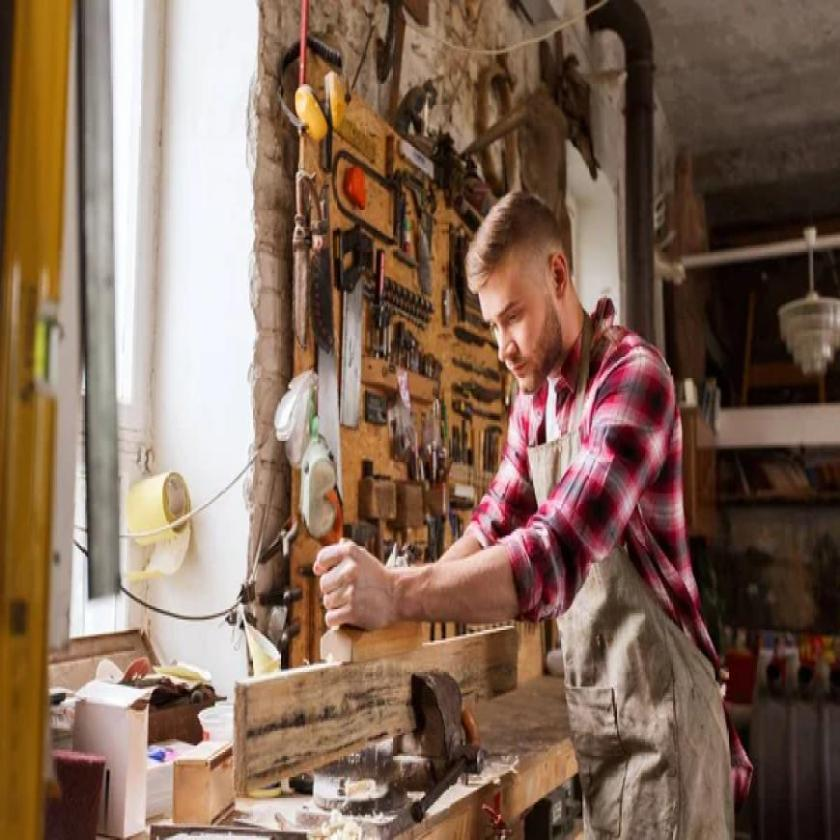Sin_casco: (461, 186, 578, 401)
